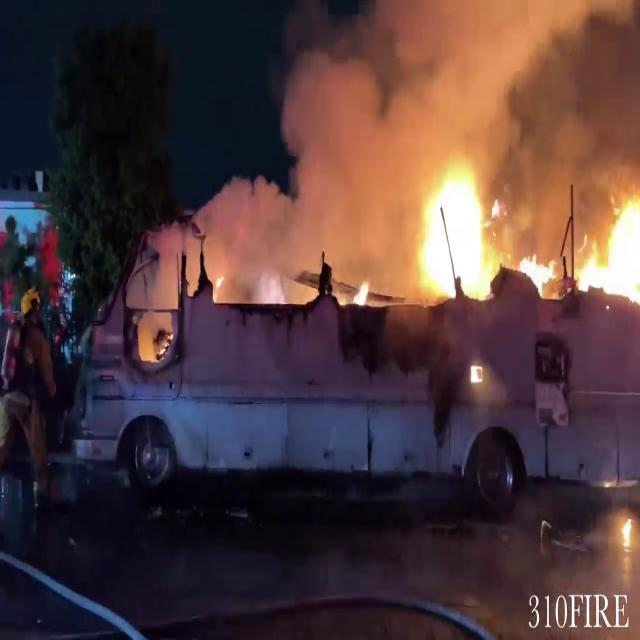Fire: (405, 152, 502, 311), (576, 191, 640, 317)
Smoke: (256, 0, 640, 204)
